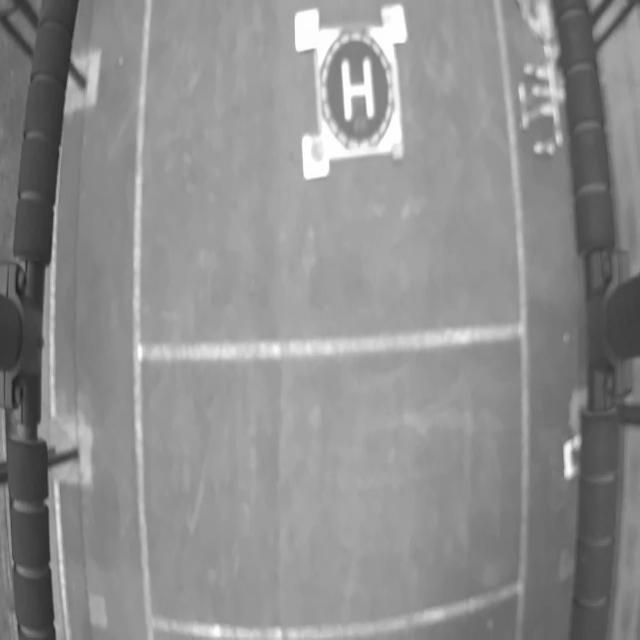Helipad: (341, 58, 375, 122)
